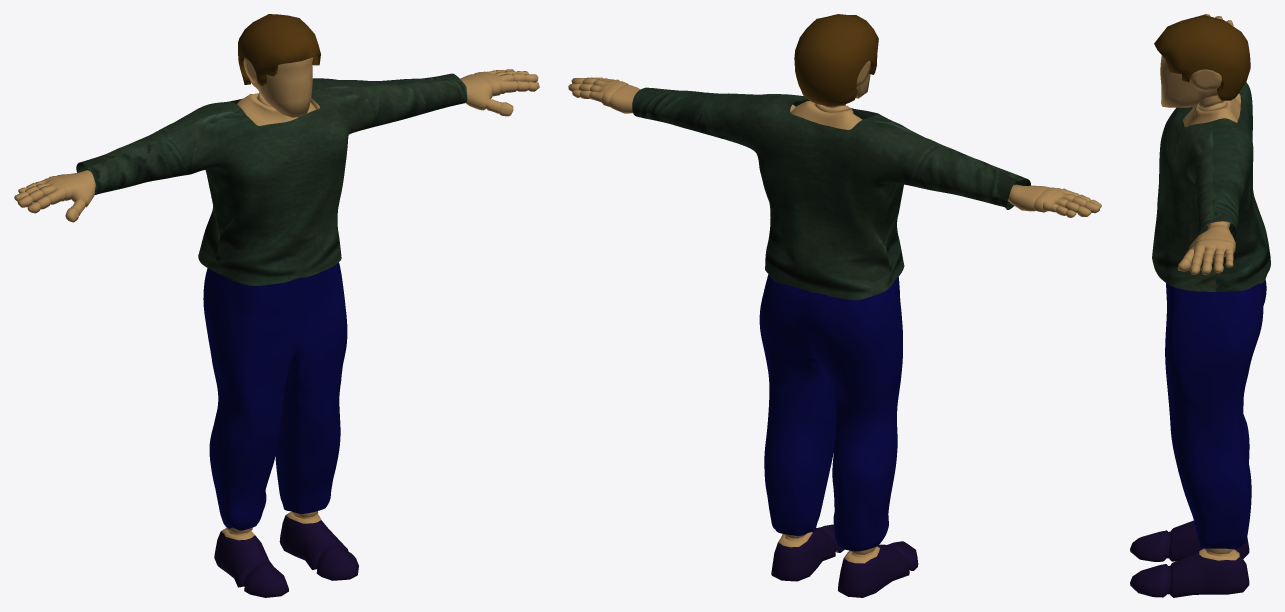
The model's file is Two_Dummies.fbx.
The picture shows the model from 3 angles, left to right: view 1: azimuth 30°, elevation 25°; view 2: azimuth 150°, elevation 25°; view 3: azimuth 270°, elevation 25°; orthographic projection.
Visible parts, largest first — view 1: Plane.003, Plane.002, HumanM_BodyMesh.002, HumanM_BodyMesh.003; view 2: Plane.003, Plane.002, HumanM_BodyMesh.002, HumanM_BodyMesh.003; view 3: Plane.002, Plane.003, HumanM_BodyMesh.002, HumanM_BodyMesh.003.
Part boxes in pixels (left/top/right/bottom): Plane.003: left=76, top=73, right=467, bottom=285; Plane.002: left=203, top=262, right=347, bottom=530; HumanM_BodyMesh.002: left=14, top=57, right=539, bottom=597; HumanM_BodyMesh.003: left=238, top=14, right=320, bottom=86; Plane.003: left=632, top=87, right=1030, bottom=300; Plane.002: left=759, top=274, right=902, bottom=551; HumanM_BodyMesh.002: left=568, top=60, right=1101, bottom=597; HumanM_BodyMesh.003: left=794, top=14, right=878, bottom=105; Plane.002: left=1165, top=279, right=1266, bottom=548; Plane.003: left=1152, top=82, right=1270, bottom=291; HumanM_BodyMesh.002: left=1130, top=14, right=1249, bottom=597; HumanM_BodyMesh.003: left=1154, top=15, right=1250, bottom=100.
Bounding box in the file's own units: 182 × 183 × 42.42.
